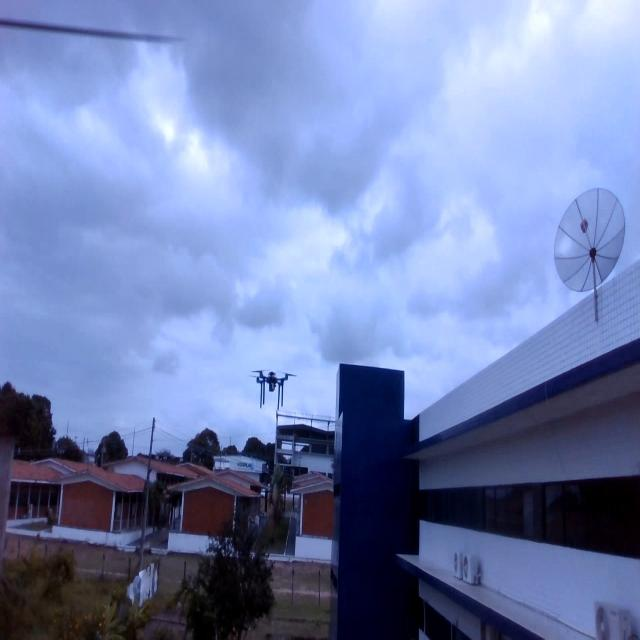-uav-: (243, 348, 299, 418)
